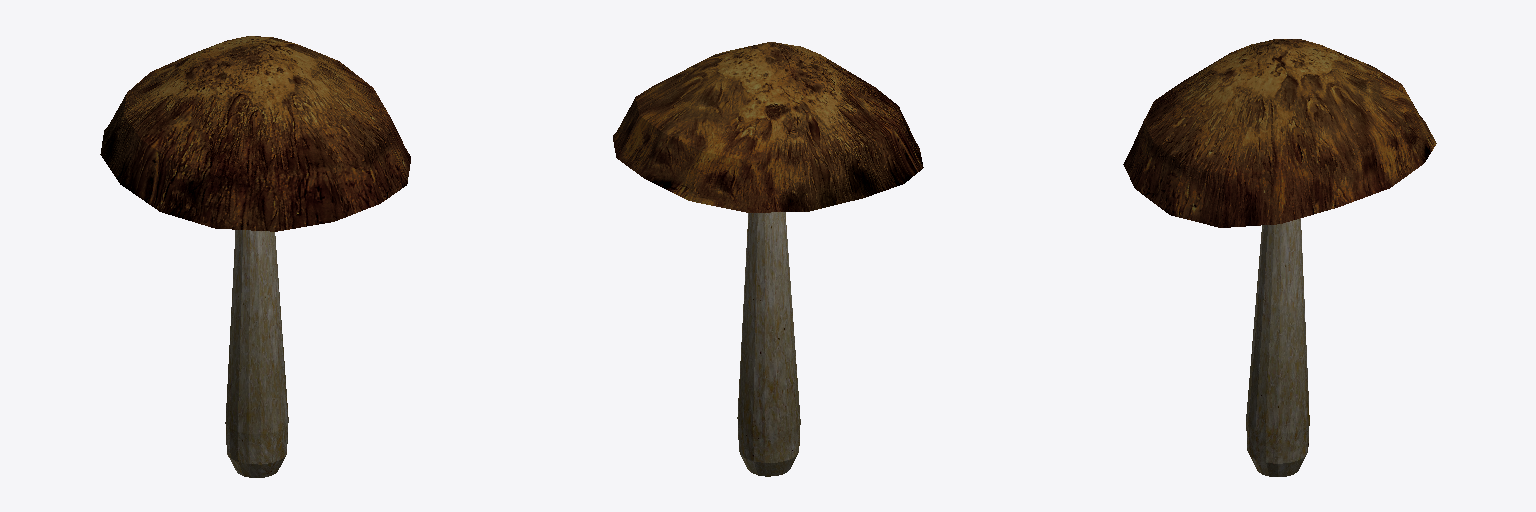
3 views of the same model, side by side, from view 1: azimuth 30°, elevation 25°; view 2: azimuth 150°, elevation 25°; view 3: azimuth 270°, elevation 25° (orthographic).
Visible parts, largest first — view 1: meshlamelladarkB; view 2: meshlamelladarkB; view 3: meshlamelladarkB.
Boxes of the visible parts, x1=… form: meshlamelladarkB: x1=100, y1=36, x2=410, y2=477; meshlamelladarkB: x1=613, y1=42, x2=923, y2=476; meshlamelladarkB: x1=1123, y1=39, x2=1436, y2=476.
Bounding box in the file's own units: 2.62 × 3.9 × 2.61.
Materials: 1 (1 with a texture image).